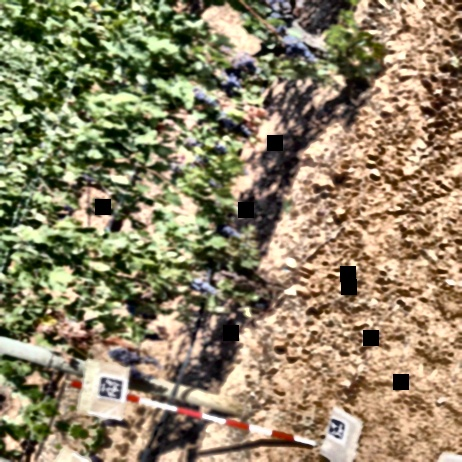QR: (96, 374, 125, 402), (324, 417, 348, 440)
